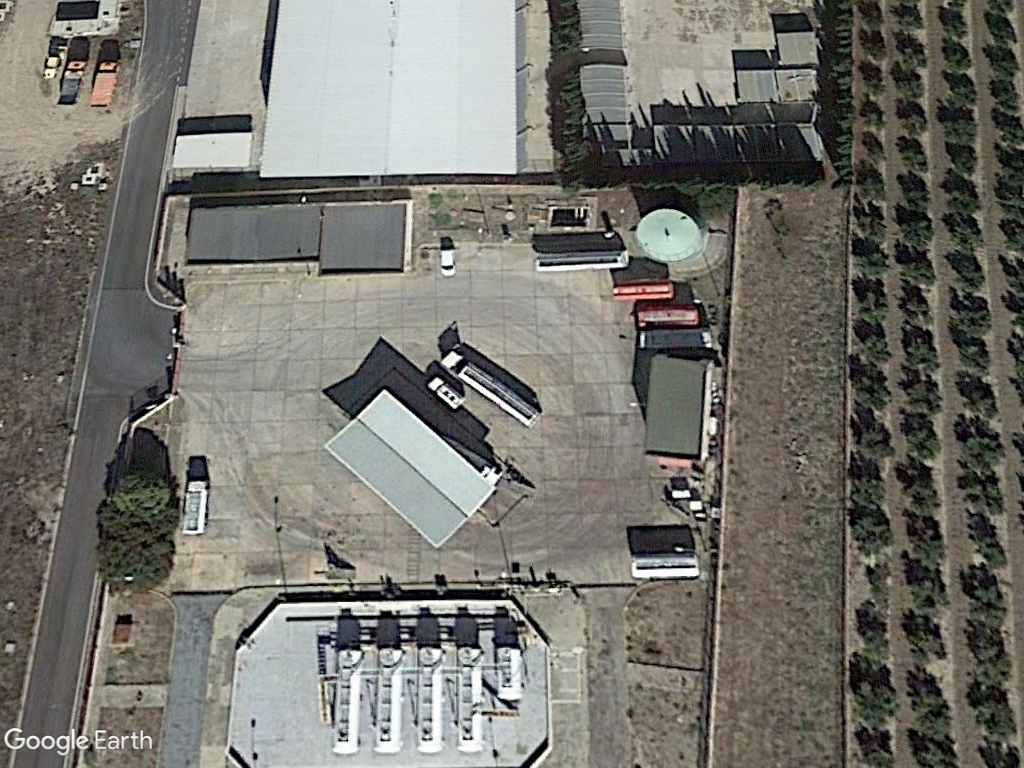car: (435, 240, 459, 282)
longvehicle: (439, 342, 547, 428)
other: (624, 547, 703, 584), (58, 39, 87, 117), (90, 51, 124, 114)
truck: (177, 473, 211, 542), (420, 370, 468, 413)
